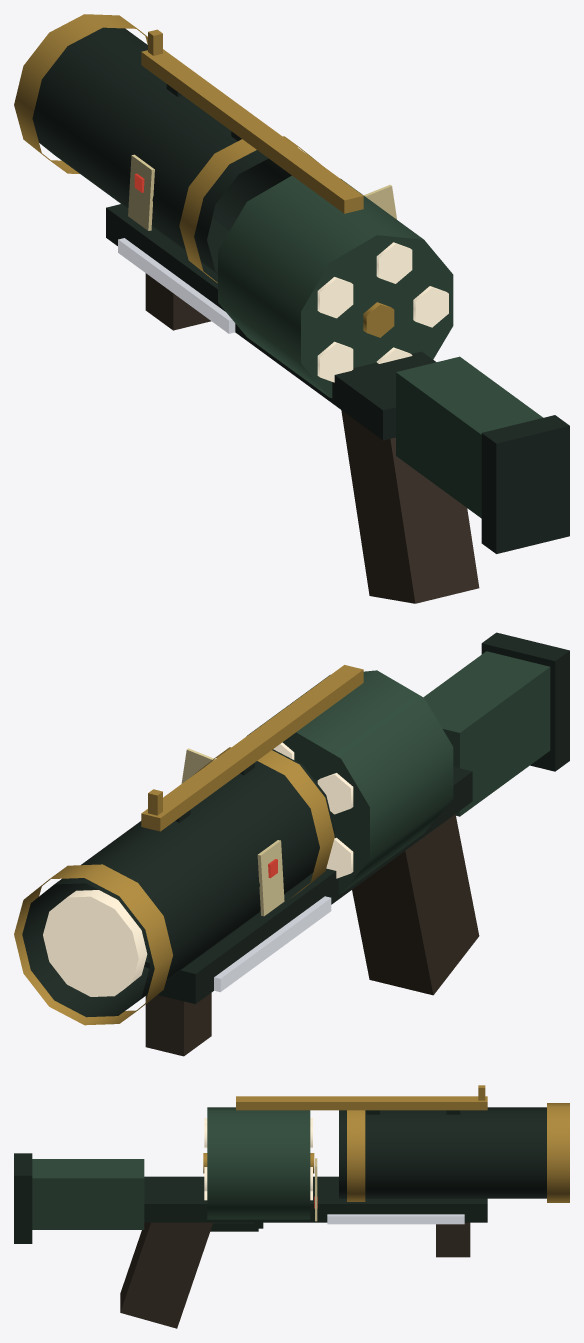
Rendered from BO_SK_Weapon_Stormpod_v001.glb.
3 views of the same model, one above another, from view 1: azimuth 30°, elevation 25°; view 2: azimuth 150°, elevation 25°; view 3: azimuth 270°, elevation 25° (orthographic). The views are drawn at different scales.
Visible parts, largest first — view 1: body_006, body_000, body_022, body_027, body_028, body_015, body_016, body_001, body_002, glowfx_021, body_026, body_004 (+5 smaller); view 2: body_000, body_006, body_022, body_027, glowfx_003, body_015, body_016, body_001, body_028, body_026, body_002, glowfx_021 (+4 smaller); view 3: body_000, body_006, body_027, body_015, body_022, body_016, body_001, body_002, body_028, glowfx_020, body_026, body_023.
Boxes of the visible parts, <box> form: body_006: <box>218,175,453,397</box>; body_000: <box>32,27,291,274</box>; body_022: <box>341,410,479,603</box>; body_027: <box>396,356,543,518</box>; body_028: <box>481,415,569,553</box>; body_015: <box>106,204,436,440</box>; body_016: <box>141,49,363,213</box>; body_001: <box>14,14,147,173</box>; body_002: <box>179,136,319,282</box>; glowfx_021: <box>118,238,235,333</box>; body_026: <box>145,273,210,330</box>; body_004: <box>128,154,154,230</box>; body_000: <box>22,749,334,1017</box>; body_006: <box>246,670,453,894</box>; body_022: <box>352,814,479,995</box>; body_027: <box>423,651,550,816</box>; glowfx_003: <box>43,890,147,996</box>; body_015: <box>144,766,472,1003</box>; body_016: <box>141,665,363,831</box>; body_001: <box>14,864,172,1025</box>; body_028: <box>481,632,569,771</box>; body_026: <box>145,993,211,1056</box>; body_002: <box>193,747,334,898</box>; glowfx_021: <box>214,896,331,992</box>; body_000: <box>339,1107,546,1198</box>; body_006: <box>207,1107,310,1219</box>; body_027: <box>32,1159,144,1229</box>; body_015: <box>144,1176,487,1222</box>; body_022: <box>120,1222,212,1328</box>; body_016: <box>236,1096,487,1110</box>; body_001: <box>547,1103,569,1202</box>; body_002: <box>347,1110,365,1201</box>; body_028: <box>14,1153,32,1243</box>; glowfx_020: <box>327,1214,464,1224</box>; body_026: <box>436,1222,470,1257</box>; body_023: <box>210,1222,258,1231</box>.
Size of the model in its own units: 0.1186 by 0.2242 by 0.486.
